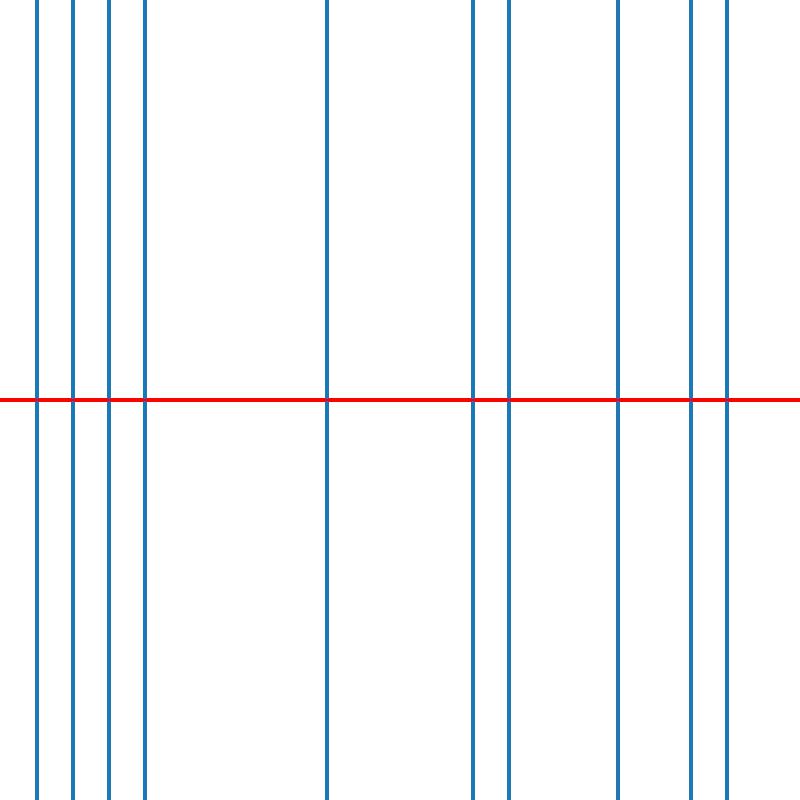root: (141, 396, 149, 404), (32, 396, 40, 404), (614, 396, 621, 404), (687, 396, 694, 404), (323, 396, 330, 404), (469, 396, 476, 404), (105, 396, 112, 404), (723, 396, 730, 404), (69, 396, 76, 404), (505, 396, 512, 404)
